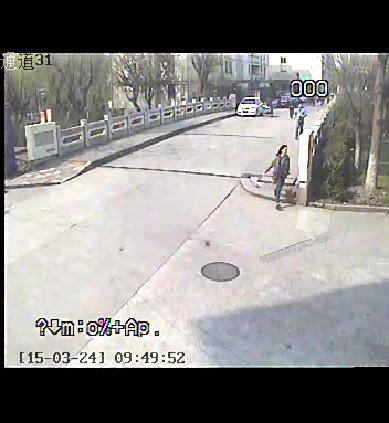person: (262, 146, 295, 211), (288, 101, 311, 135)
